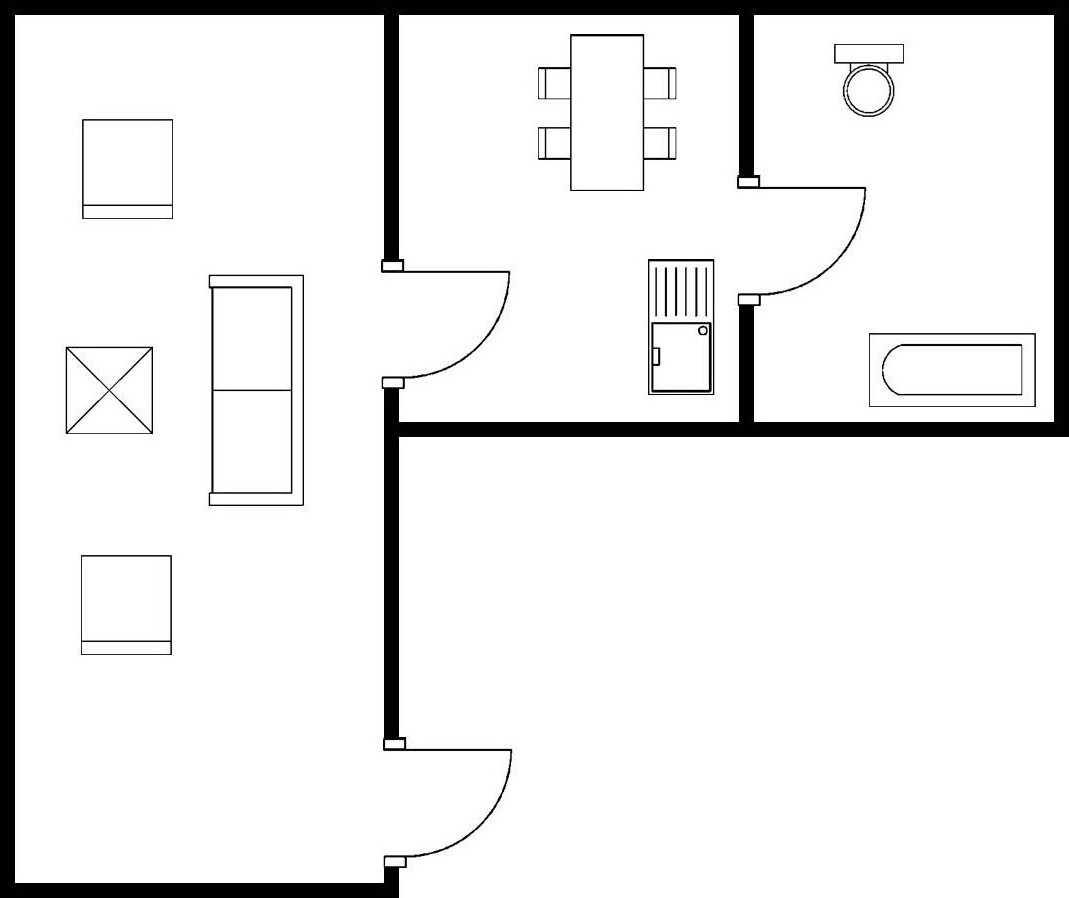coffee_table: (60, 342, 158, 442)
dining_table: (535, 28, 684, 199)
large_sofa: (203, 269, 309, 514)
sink: (642, 254, 719, 406), (829, 39, 909, 122)
small_sofa: (76, 114, 180, 229), (76, 550, 179, 659)
tub: (863, 327, 1044, 415)
